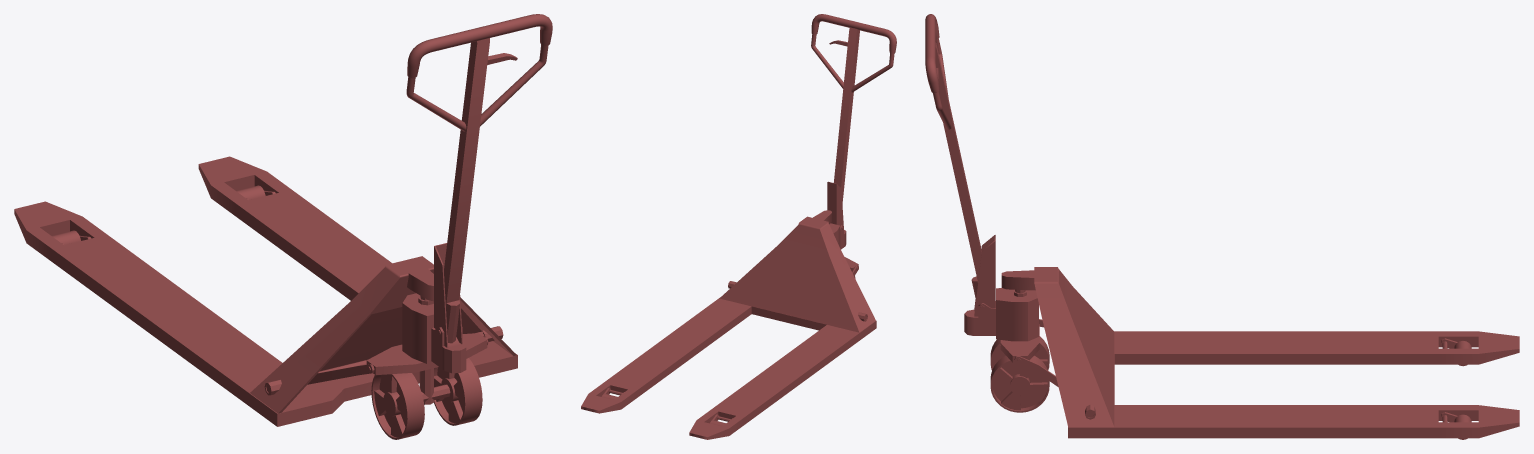
The model's file is PalletJack.fbx.
3 renders of one model, left to right at view 1: azimuth 30°, elevation 25°; view 2: azimuth 150°, elevation 25°; view 3: azimuth 270°, elevation 25°, orthographic. The views are drawn at different scales.
Parts seen in each view (by area): view 1: MainBody, Handle, FrontWheels, PalletJack; view 2: MainBody, Handle, PalletJack; view 3: MainBody, PalletJack, Handle, FrontWheels.
Part boxes in pixels (bbox=[...]): MainBody: bbox=[14, 156, 517, 426]; Handle: bbox=[406, 14, 552, 343]; FrontWheels: bbox=[371, 358, 482, 439]; PalletJack: bbox=[402, 243, 466, 373]; MainBody: bbox=[581, 210, 876, 439]; Handle: bbox=[811, 14, 896, 204]; PalletJack: bbox=[827, 181, 846, 249]; MainBody: bbox=[1000, 267, 1519, 438]; PalletJack: bbox=[964, 235, 1038, 341]; Handle: bbox=[925, 14, 981, 299]; FrontWheels: bbox=[990, 336, 1049, 412].
Bounding box in the file's own units: 68.53 × 120 × 179.
